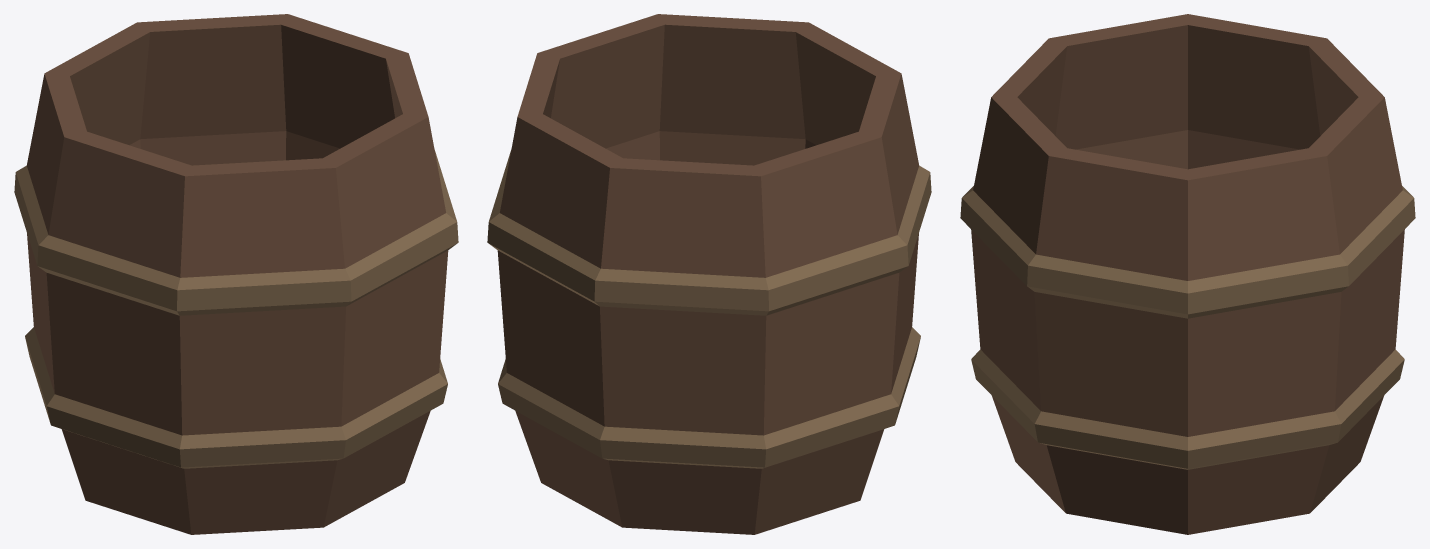
The model's file is OpenRopeBarrel.fbx.
3 views of the same model, side by side, from view 1: azimuth 30°, elevation 25°; view 2: azimuth 150°, elevation 25°; view 3: azimuth 270°, elevation 25° (orthographic).
Visible parts, largest first — view 1: OpenRopeBarrel; view 2: OpenRopeBarrel; view 3: OpenRopeBarrel.
Boxes of the visible parts, x1,y1,x2,y2 form: OpenRopeBarrel: (14,14,458,534); OpenRopeBarrel: (487,14,931,534); OpenRopeBarrel: (960,14,1415,534).
Size of the model in its own units: 0.6528 by 0.6528 by 0.5774.
